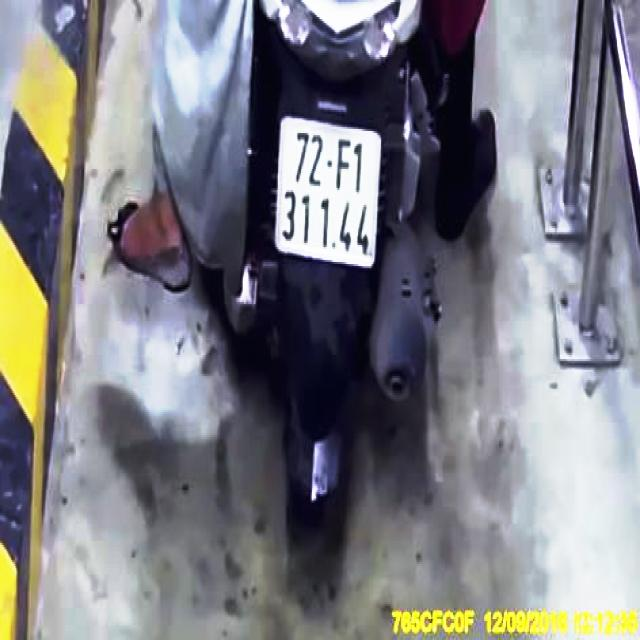license_plate: (279, 117, 379, 263)
